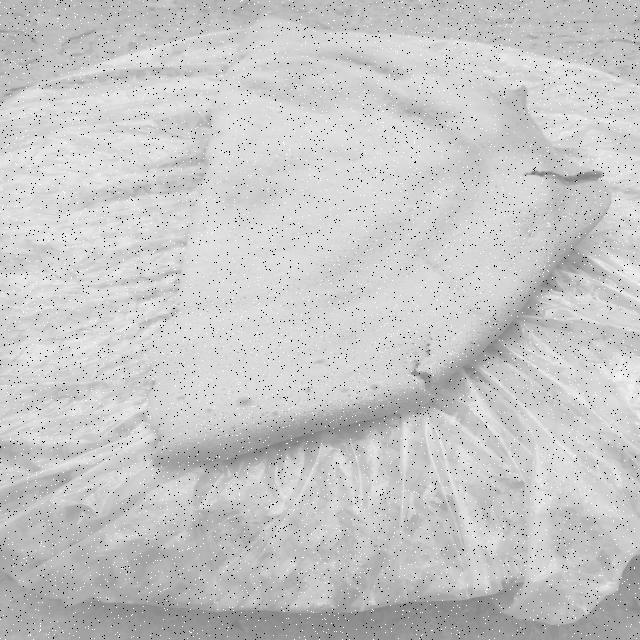injera_mold: (350, 393, 374, 414), (431, 363, 450, 380), (445, 348, 465, 361), (408, 358, 428, 368), (235, 396, 253, 407), (300, 386, 316, 395), (290, 421, 301, 431), (311, 358, 329, 364), (369, 383, 381, 391), (270, 409, 280, 418), (404, 205, 416, 212), (338, 387, 350, 393), (176, 394, 186, 401), (204, 408, 214, 413), (546, 222, 553, 228), (408, 385, 416, 390), (219, 387, 228, 391), (224, 432, 230, 438), (416, 379, 422, 384), (325, 363, 331, 367), (276, 111, 282, 115), (281, 425, 285, 430), (257, 438, 263, 441), (546, 213, 550, 217), (347, 366, 352, 369), (403, 380, 408, 383), (217, 435, 220, 439), (220, 428, 223, 432), (526, 219, 529, 222), (531, 232, 534, 234), (276, 426, 279, 428), (546, 229, 548, 231), (538, 216, 540, 218), (280, 422, 282, 424), (285, 422, 287, 423)
